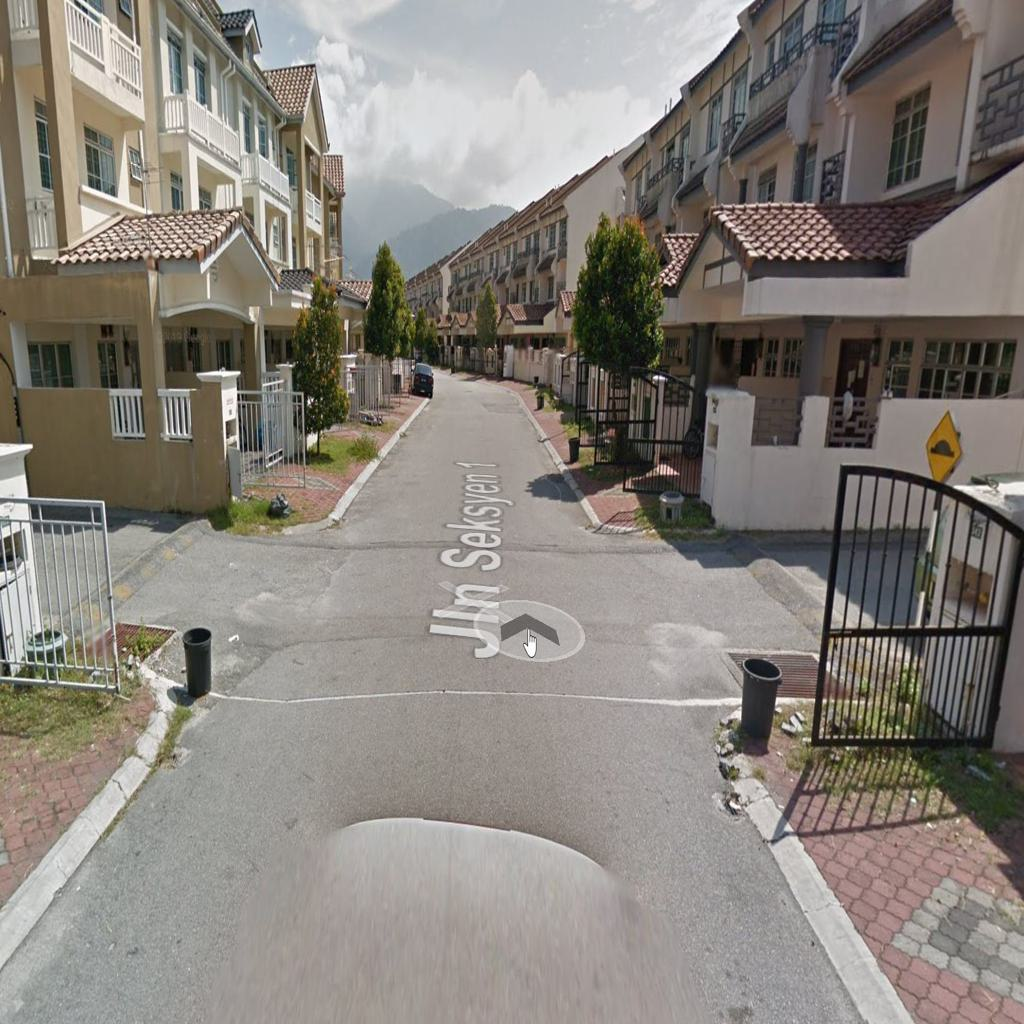Junction: (33, 462, 359, 746), (614, 480, 927, 757)
